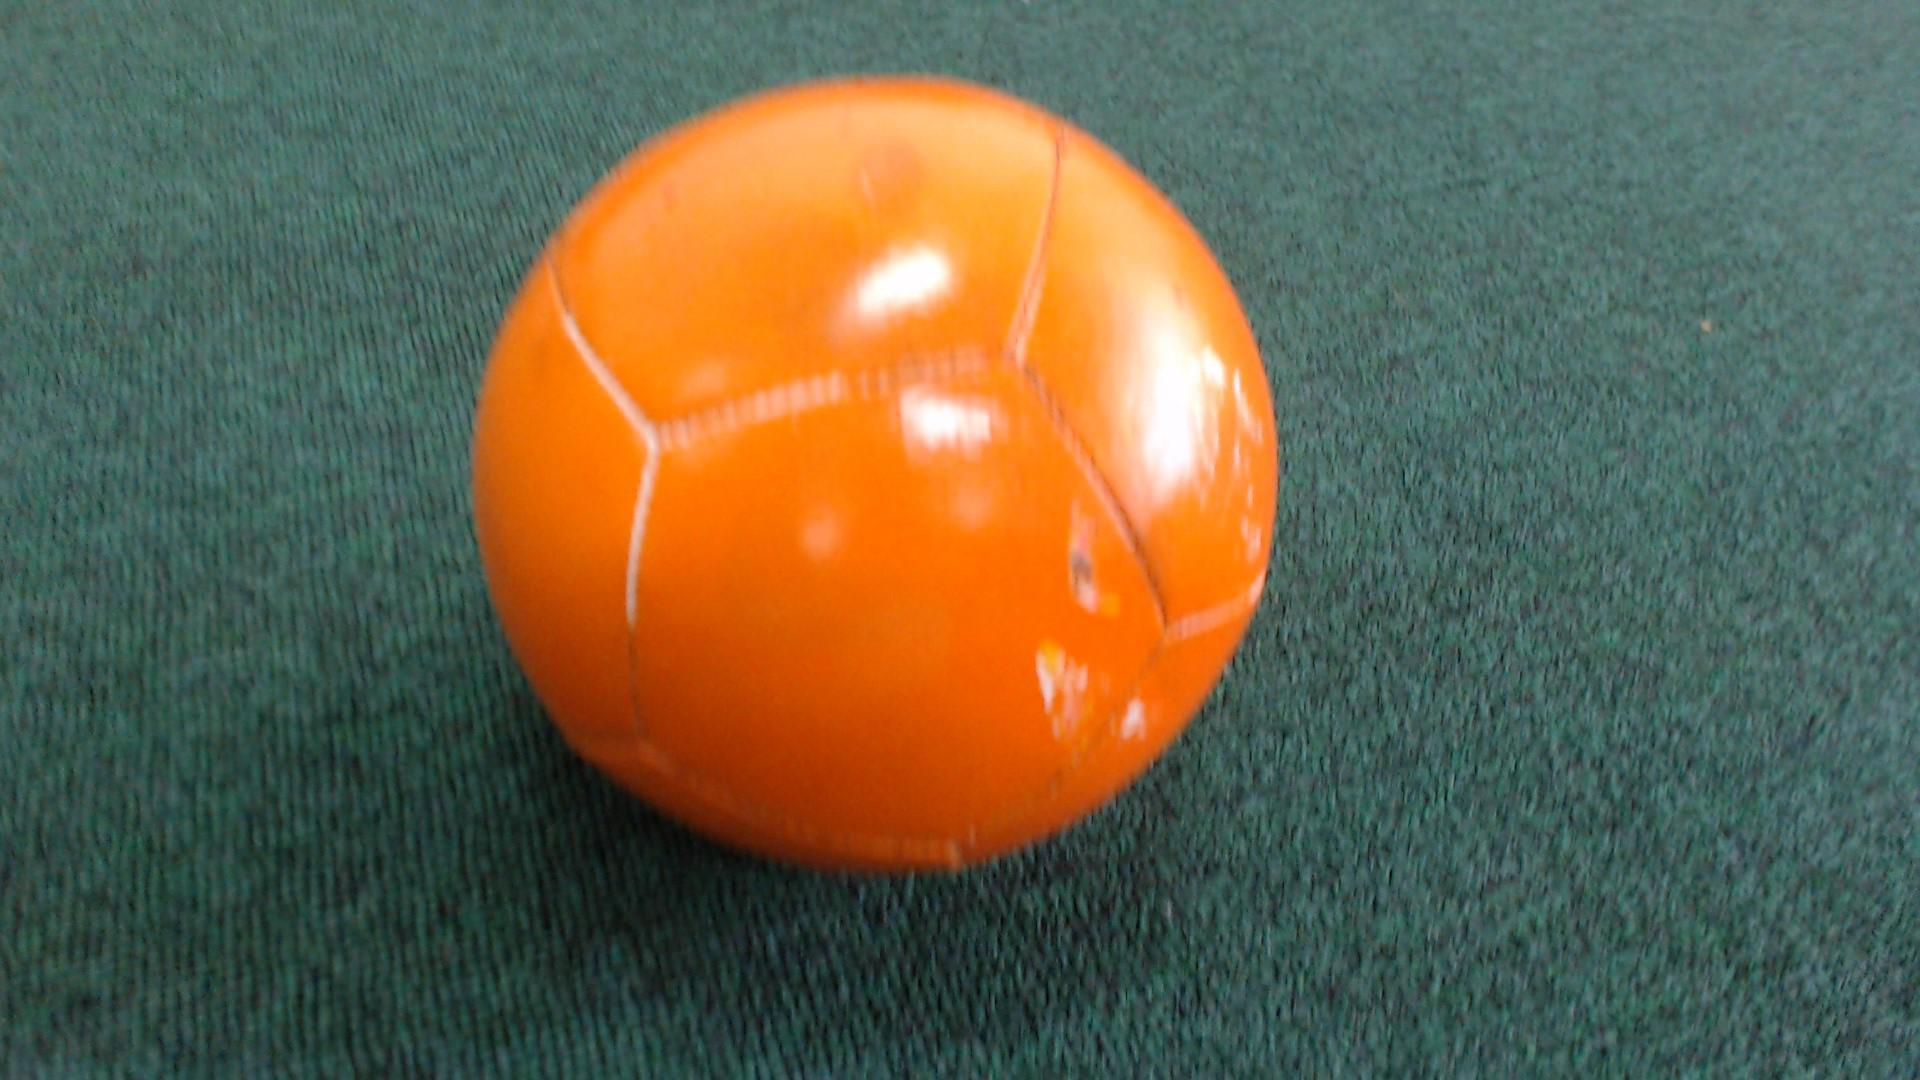bola: (438, 29, 1309, 938)
